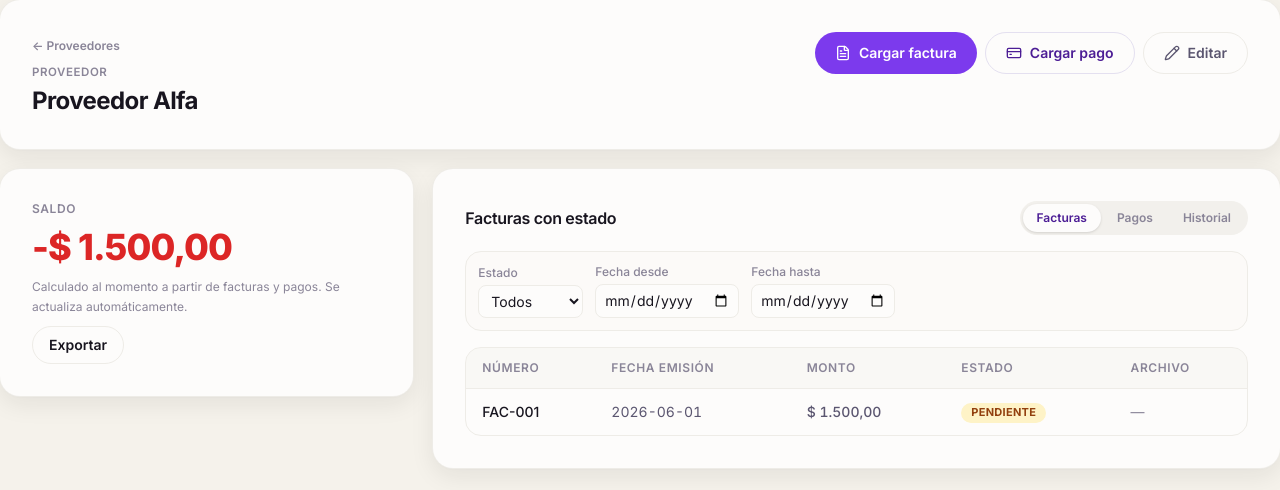
it: ProveedorDetailPage › renders the TablaFacturasConEstado (default tab) and HistorialCronologico (Historial tab) below the action row
expect the row with test id "tabla-facturas-row-factura-1" is shown: met, box [466,389,1247,435]
Click the button "Historial" at coordinates (1207, 218), box [1169,204,1245,232]
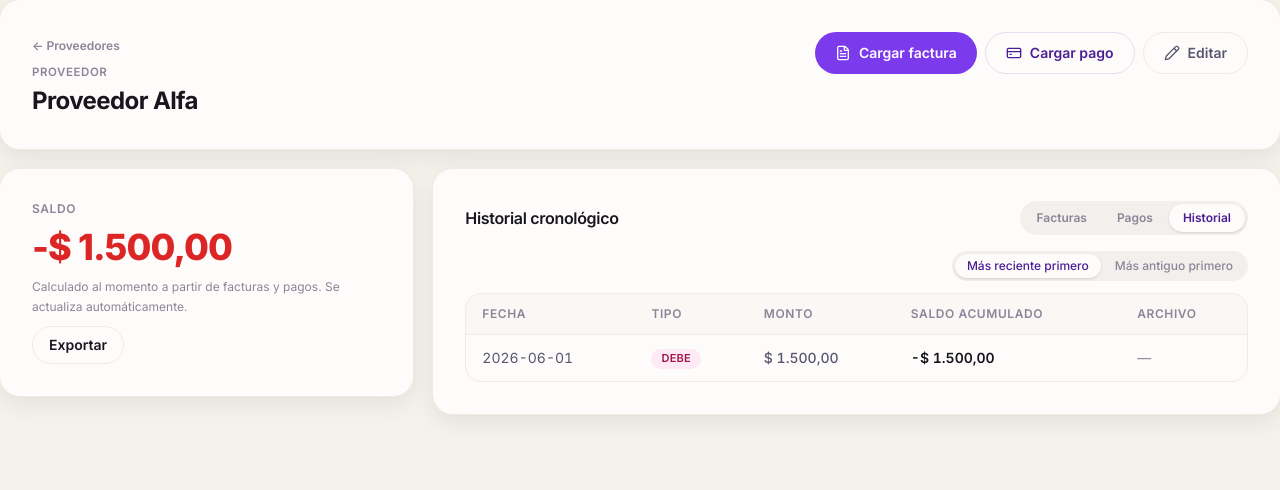
expect the row with test id "historial-row-factura-1" is shown: met, box [466,335,1247,381]
